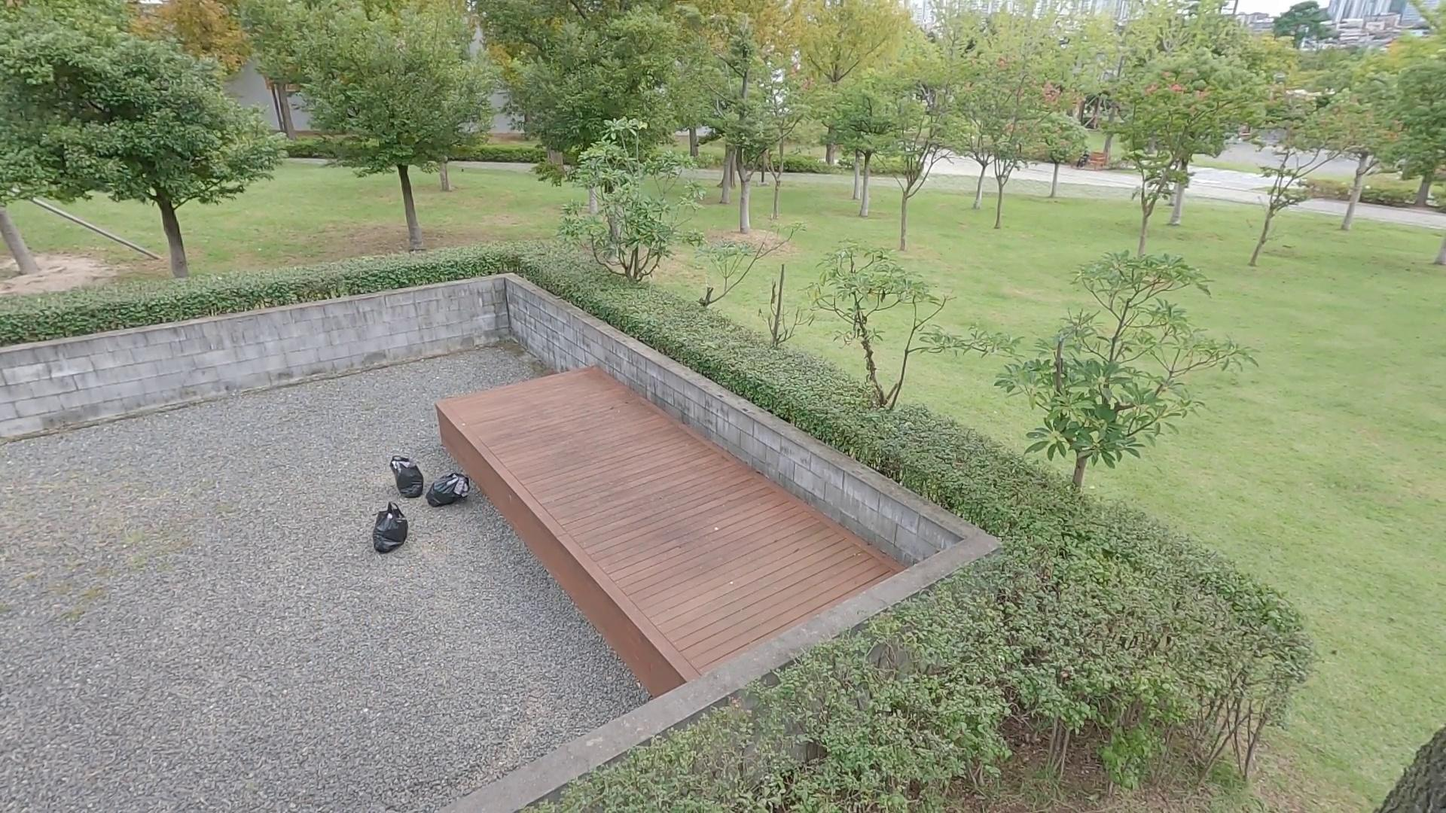trash: (374, 502, 409, 554), (425, 471, 473, 508), (389, 454, 425, 498)
